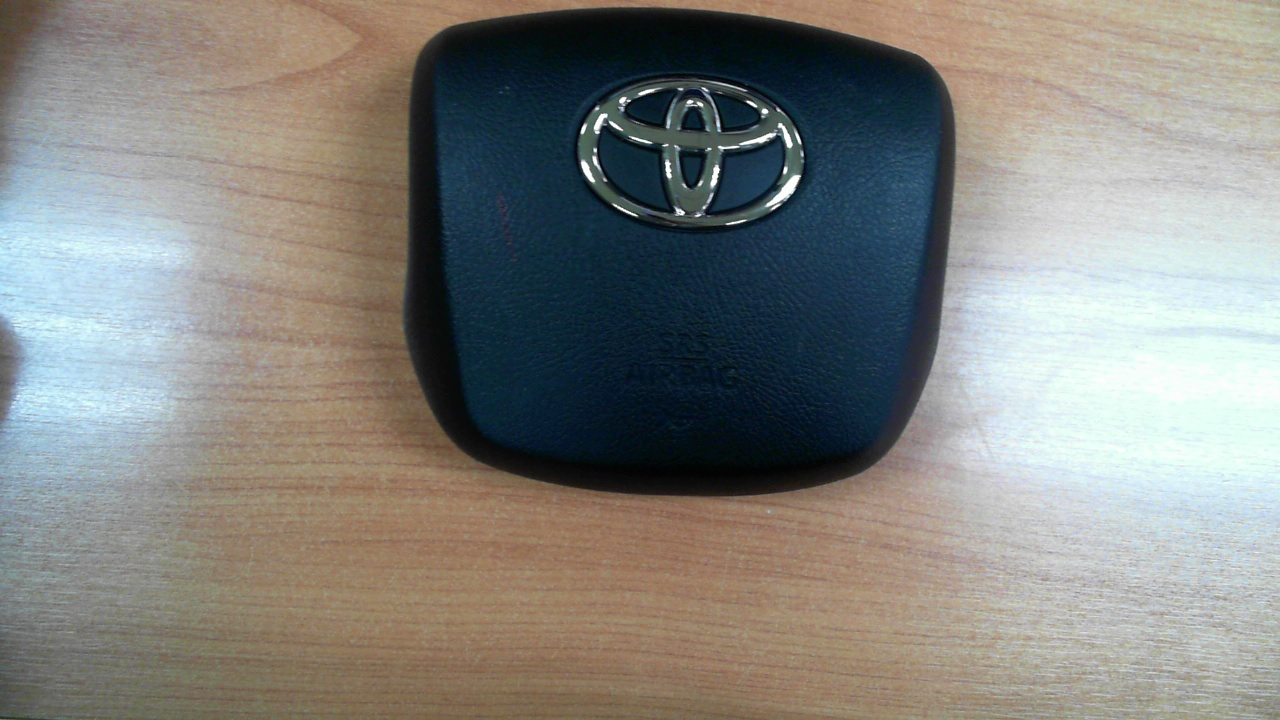Airbag: (405, 12, 956, 493)
Toyota: (577, 77, 805, 228)
